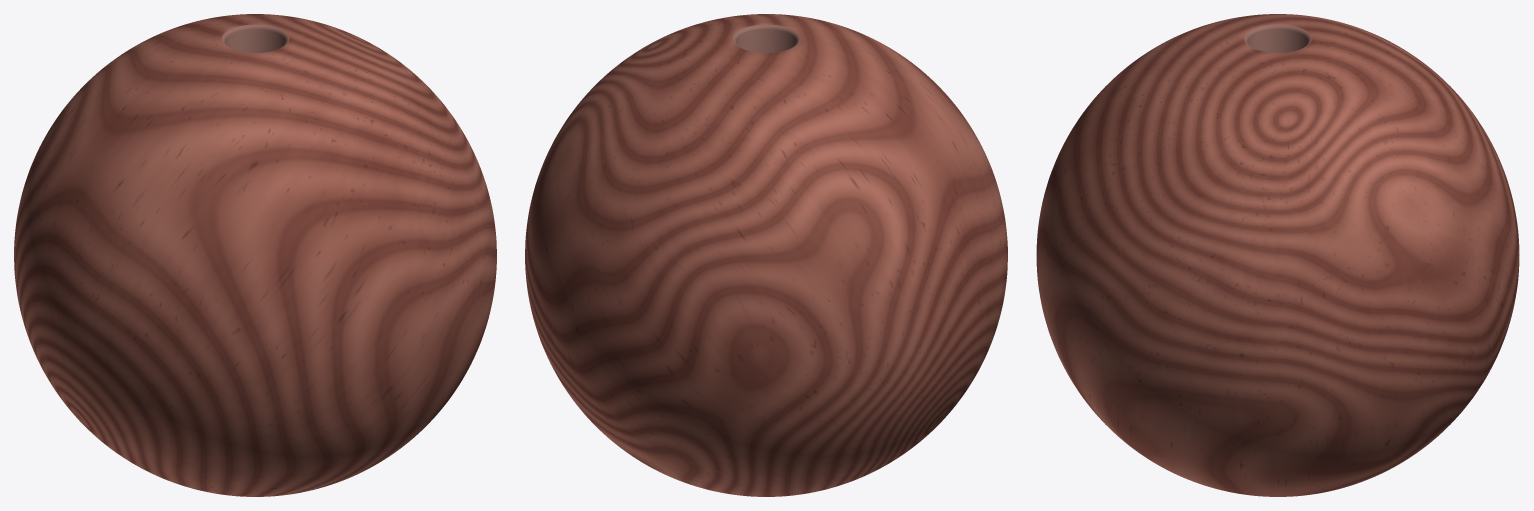
Rendered from redbean-wood-8mm.glb.
3 views of the same model, side by side, from view 1: azimuth 30°, elevation 25°; view 2: azimuth 150°, elevation 25°; view 3: azimuth 270°, elevation 25° (orthographic).
Parts seen in each view (by area): view 1: redbean-wood; view 2: redbean-wood; view 3: redbean-wood.
Part boxes in pixels (x1,y1,x2,y2): redbean-wood: (14,14,496,496); redbean-wood: (525,14,1007,496); redbean-wood: (1036,14,1519,496).
Bounding box in the file's own units: 0.008 × 0.00792 × 0.008.
Materials: 2 (1 with a texture image).
